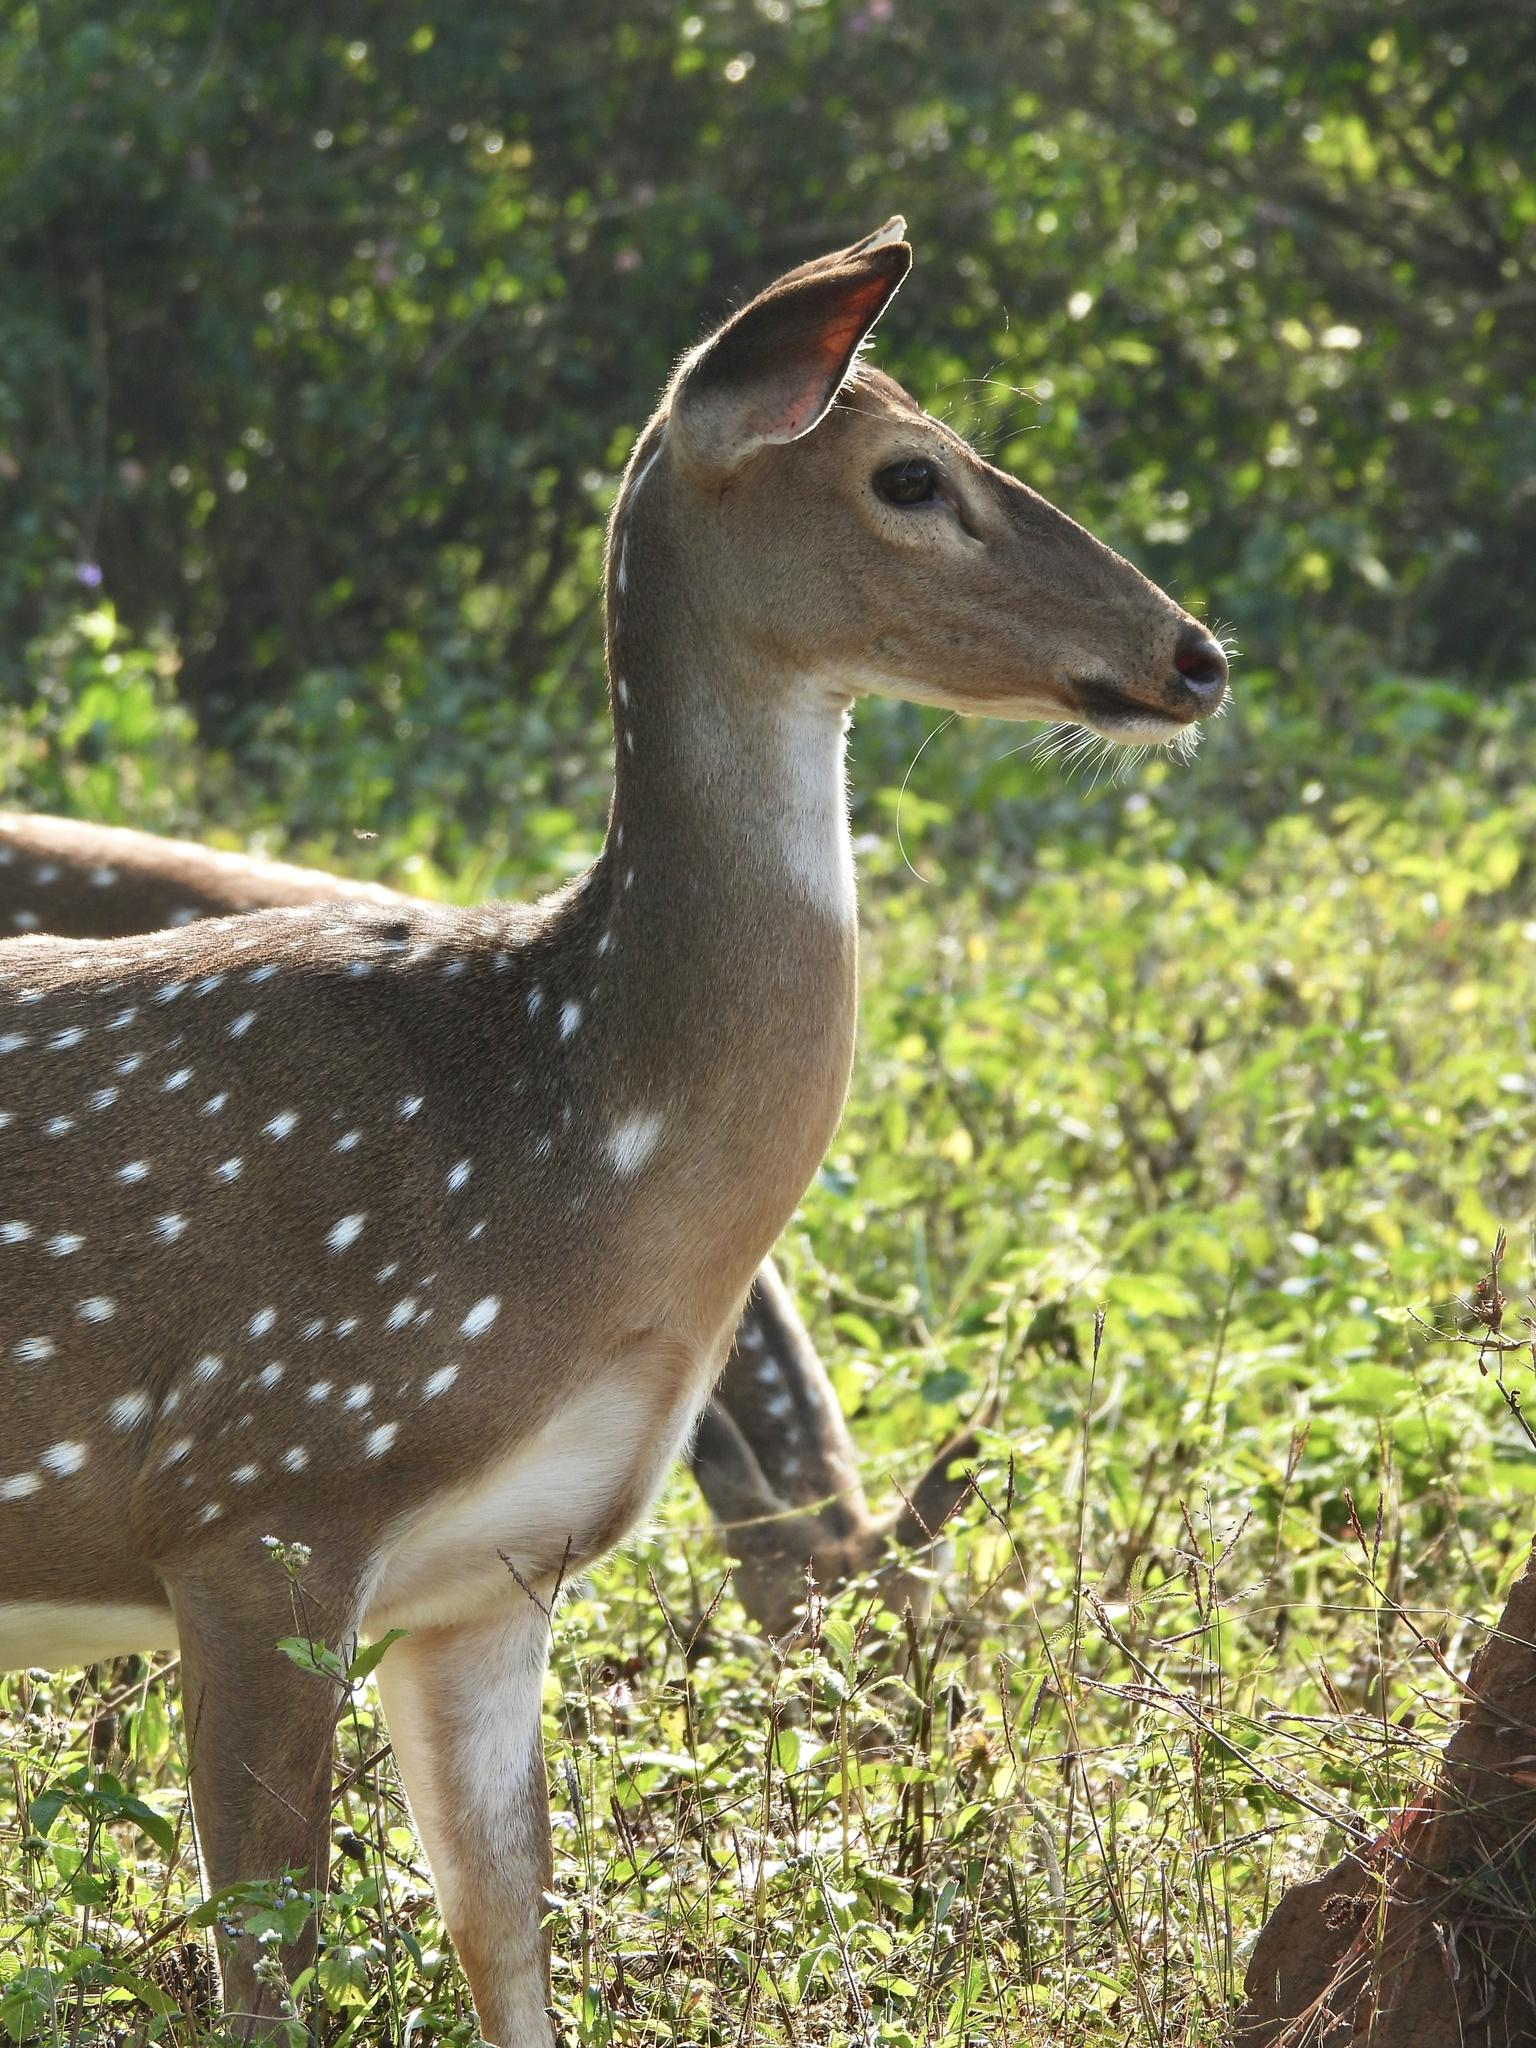Deer: (0, 235, 1226, 2046)
